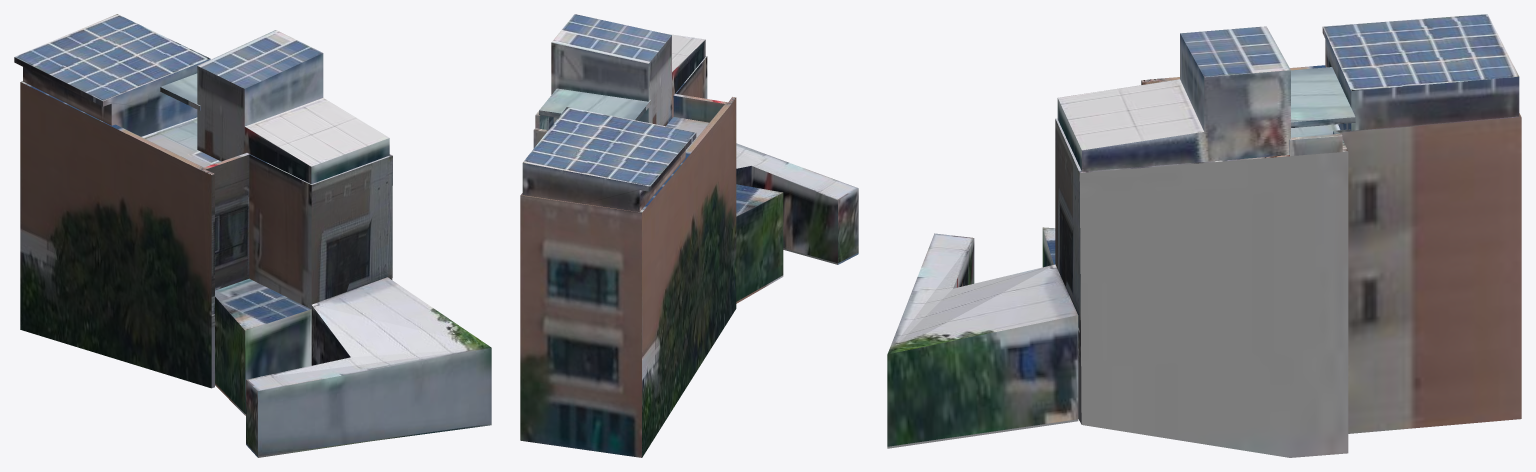
3 renders of one model, left to right at view 1: azimuth 30°, elevation 25°; view 2: azimuth 150°, elevation 25°; view 3: azimuth 270°, elevation 25°, orthographic. The views are drawn at different scales.
Parts seen in each view (by area): view 1: B280694033201062A0; view 2: B280694033201062A0; view 3: B280694033201062A0.
Boxes of the visible parts, left/top/right/bottom form: B280694033201062A0: left=14, top=14, right=491, bottom=457; B280694033201062A0: left=520, top=14, right=858, bottom=457; B280694033201062A0: left=887, top=14, right=1521, bottom=457.
Bounding box in the file's own units: 9.78 × 12.83 × 19.07.
1 material, 1 textured.
